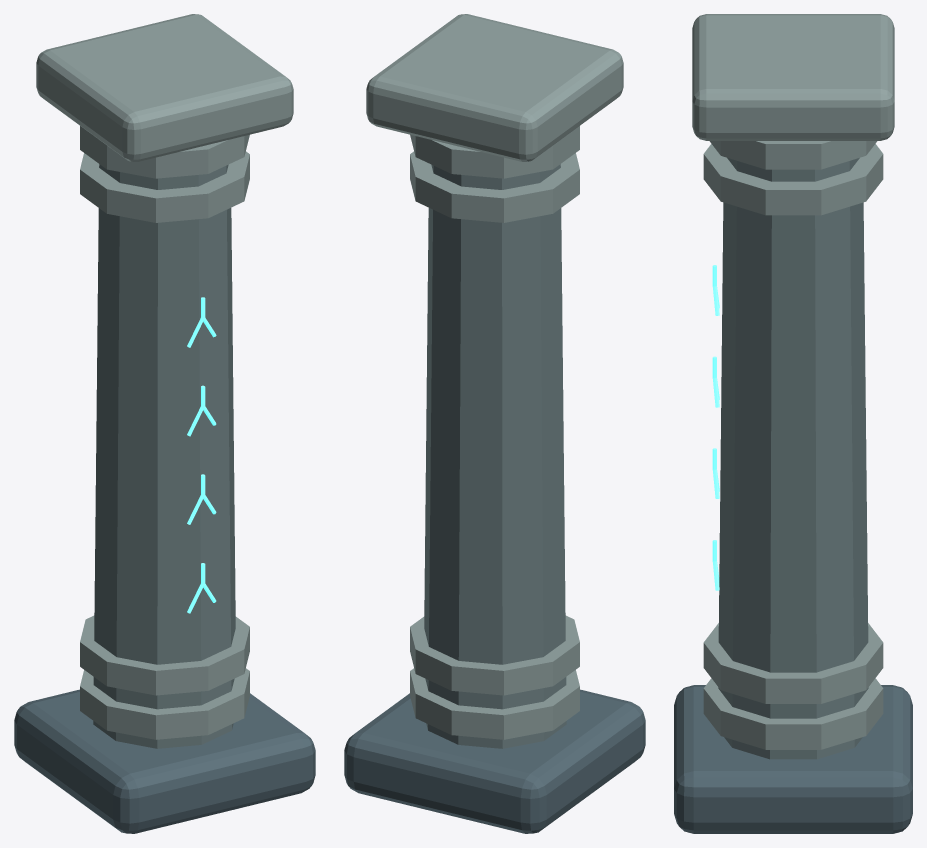
File: column.glb
3 views of the same model, side by side, from view 1: azimuth 30°, elevation 25°; view 2: azimuth 150°, elevation 25°; view 3: azimuth 270°, elevation 25° (orthographic). The views are drawn at different scales.
Visible parts, largest first — view 1: column; view 2: column; view 3: column.
Part boxes in pixels (left/top/right/bottom): column: left=14, top=14, right=315, bottom=833; column: left=344, top=14, right=645, bottom=833; column: left=674, top=14, right=912, bottom=833.
Bounding box in the file's own units: 0.85 × 2.9 × 0.85.
